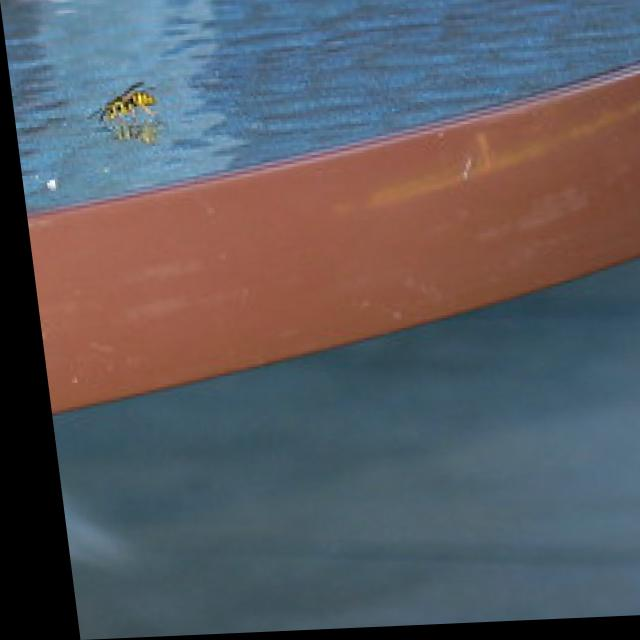Guepe: (74, 74, 169, 138)
